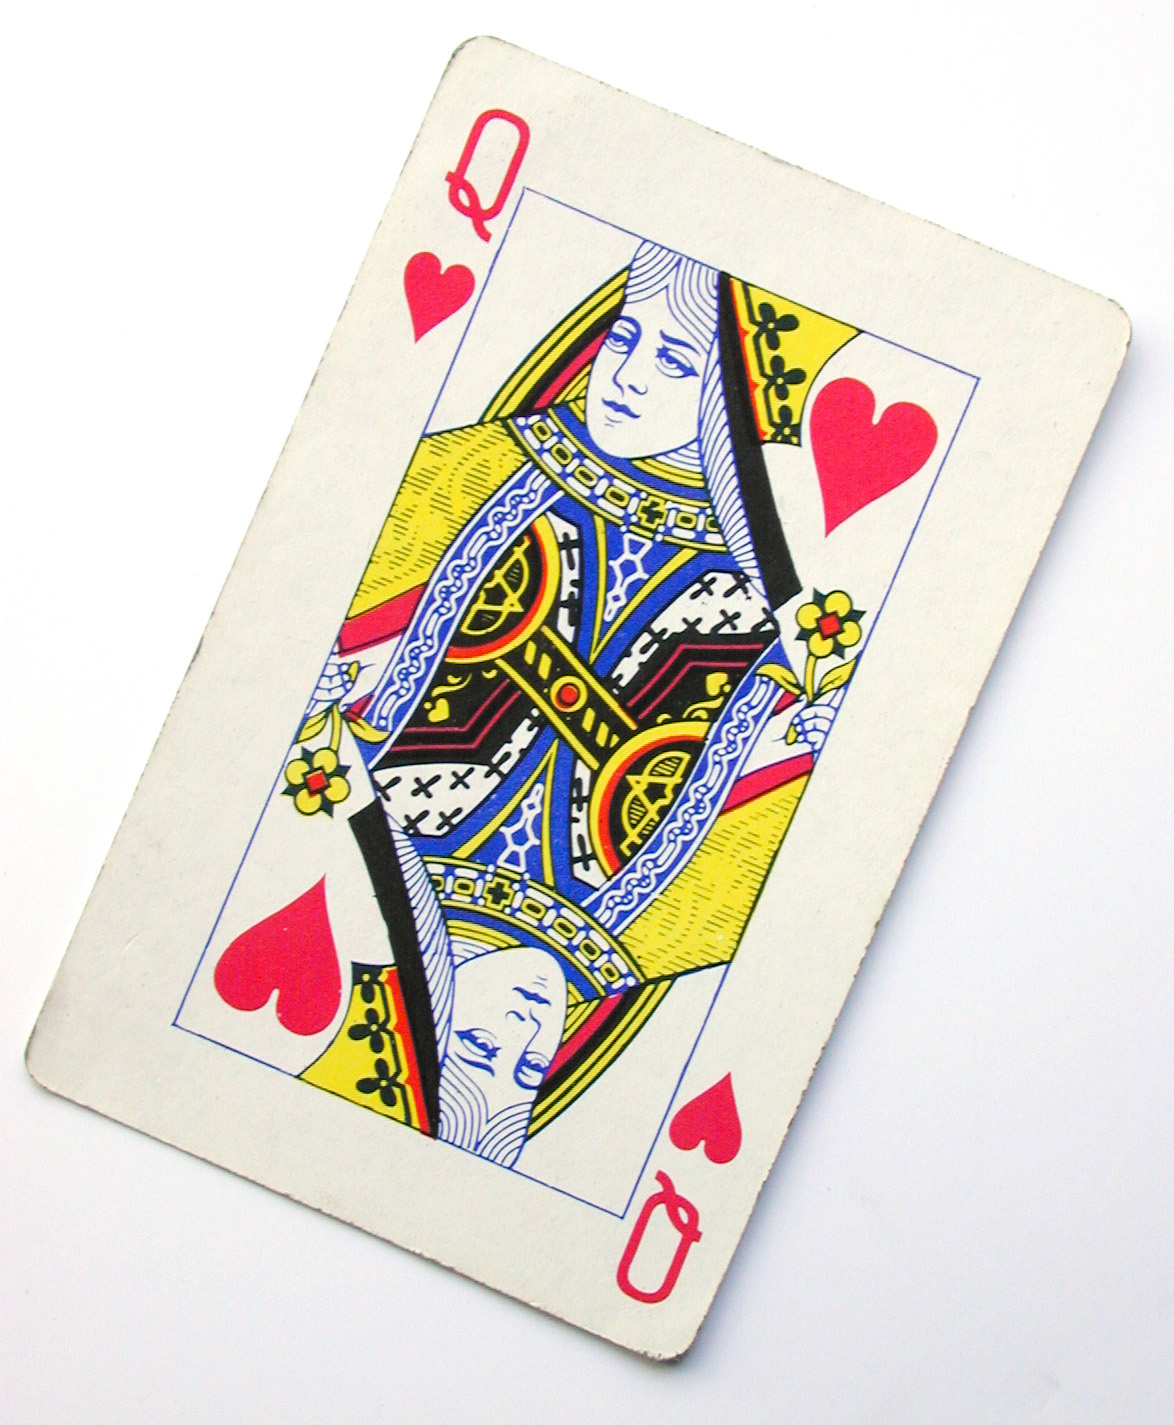queen of hearts: (25, 41, 1134, 1373)
